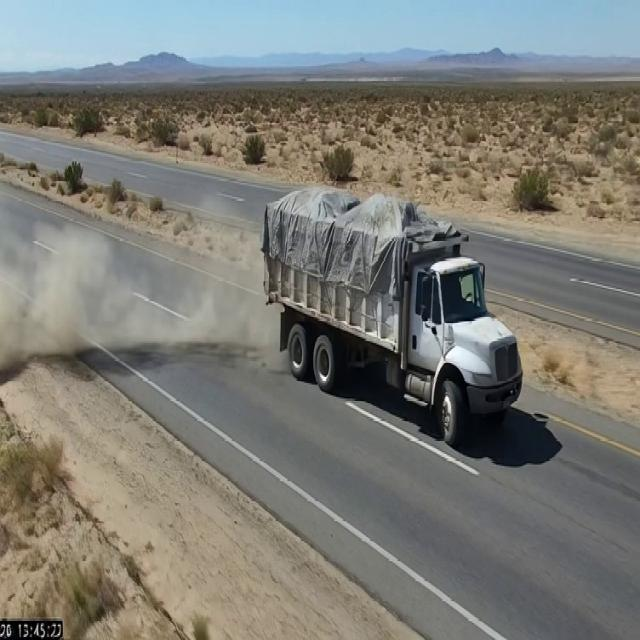trailer: (258, 188, 474, 254)
truck: (250, 172, 533, 437)
